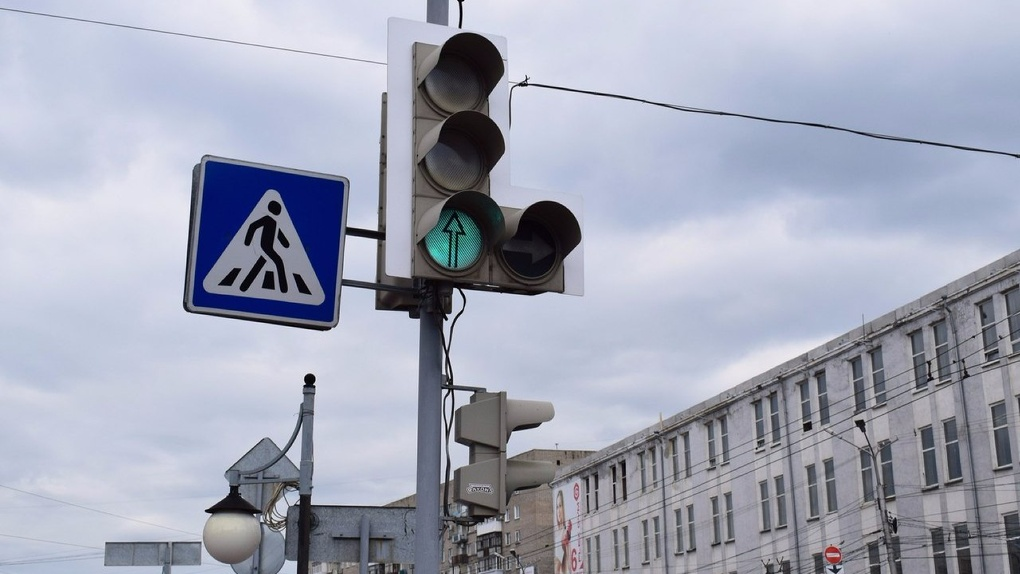tl: (385, 13, 591, 301), (432, 379, 567, 517)
